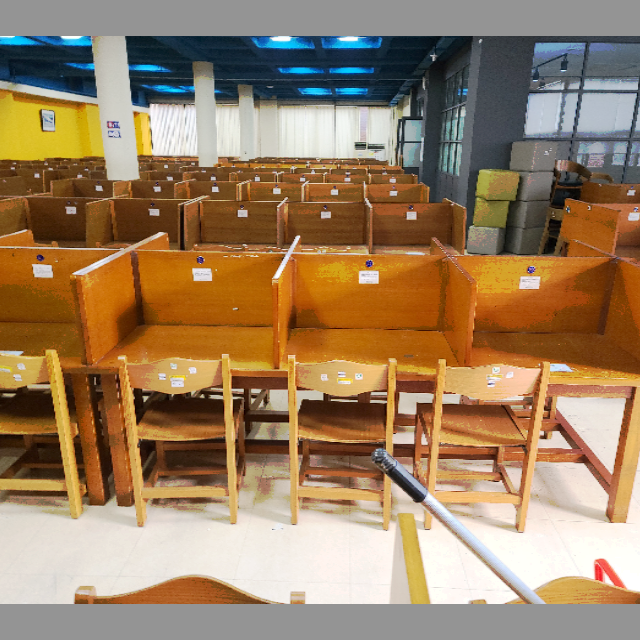empty: (469, 267, 630, 495), (286, 286, 453, 471), (110, 278, 272, 444)
